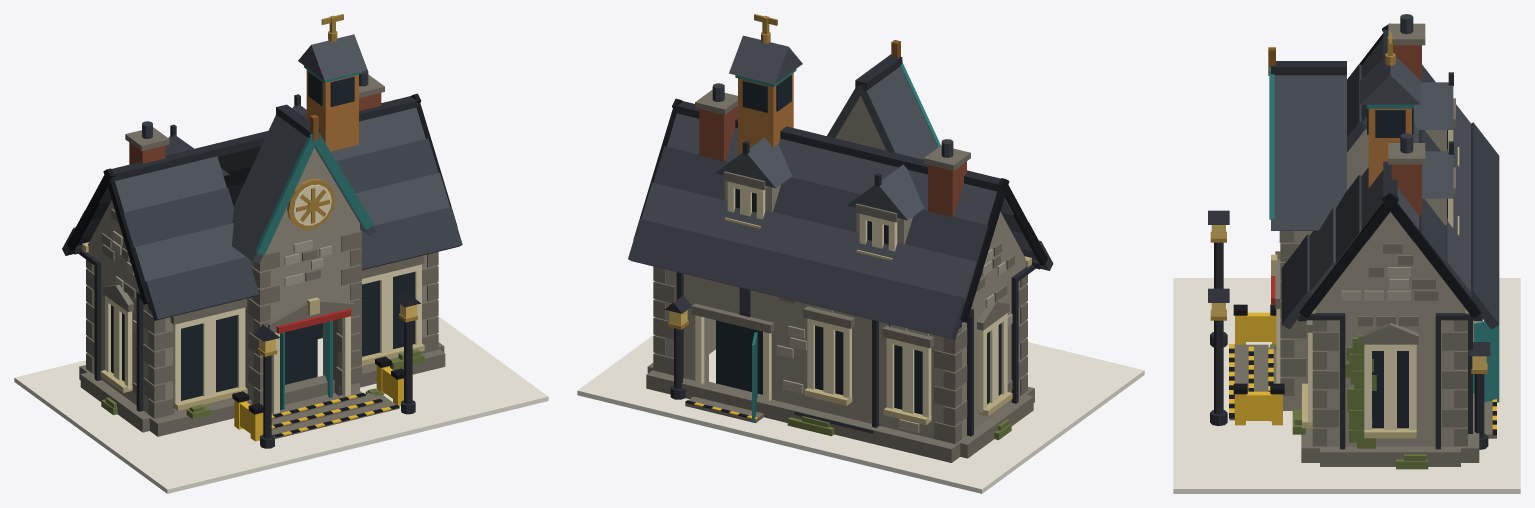
The model's file is Hall_atlas.fbx.
3 views of the same model, side by side, from view 1: azimuth 30°, elevation 25°; view 2: azimuth 150°, elevation 25°; view 3: azimuth 270°, elevation 25° (orthographic). The views are drawn at different scales.
Visible parts, largest first — view 1: Hall_Ground_Paving_01, Hall_PorchRoofB_Slate_01, Hall_RoofB_Soot_04, Hall_RoofB_Soot_14, Hall_RoofB_Soot_02, Hall_RoofB_Slate_03, Hall_PorchFront_Stone_03, Hall_RoofB_Slate_01, Hall_RoofB_Soot_12, Hall_PlinthS_Stonedark_01, Hall_RoofB_Slate_13, Hall_RidgeCap_Iron_01 (+41 smaller); view 2: Hall_Ground_Paving_01, Hall_RoofA_Soot_04, Hall_RoofA_Slate_03, Hall_RoofA_Soot_02, Hall_WallN_Stone_01, Hall_RoofA_Slate_01, Hall_PlinthN_Stonedark_01, Hall_PorchRoofB_Slate_01, Hall_RidgeCap_Iron_01, Hall_InteriorN_Dark_01, Hall_WallW_Stone_01, Hall_CupolaRoof_Slate_01 (+33 smaller); view 3: Hall_Ground_Paving_01, Hall_PorchRoofA_Slate_01, Hall_WallE_Stone_01, Hall_RoofA_Soot_04, Hall_GableE_Stone_01, Hall_RoofA_Slate_03, Hall_PlinthE_Stonedark_01, Hall_CupolaRoof_Slate_01, Hall_RoofB_Soot_14, Hall_Win06Glass_Dark_01, Hall_Dormer1Roof_Slate_01, Hall_BargeEN_Ink_01 (+47 smaller).
Part boxes in pixels (bbox=[...]): Hall_Ground_Paving_01: bbox=[14, 316, 548, 493]; Hall_PorchRoofB_Slate_01: bbox=[231, 114, 307, 263]; Hall_RoofB_Soot_04: bbox=[144, 257, 259, 320]; Hall_RoofB_Soot_14: bbox=[360, 207, 462, 270]; Hall_RoofB_Soot_02: bbox=[123, 187, 233, 249]; Hall_RoofB_Slate_03: bbox=[134, 223, 245, 285]; Hall_PorchFront_Stone_03: bbox=[277, 227, 343, 317]; Hall_RoofB_Slate_01: bbox=[115, 156, 226, 212]; Hall_RoofB_Soot_12: bbox=[336, 138, 438, 193]; Hall_PlinthS_Stonedark_01: bbox=[149, 349, 445, 436]; Hall_RoofB_Slate_13: bbox=[355, 172, 449, 225]; Hall_RidgeCap_Iron_01: bbox=[111, 96, 418, 180]; Hall_Ground_Paving_01: bbox=[577, 334, 1144, 493]; Hall_RoofA_Soot_04: bbox=[628, 219, 964, 339]; Hall_RoofA_Slate_03: bbox=[641, 182, 977, 302]; Hall_RoofA_Soot_02: bbox=[653, 146, 988, 261]; Hall_WallN_Stone_01: bbox=[765, 294, 954, 443]; Hall_RoofA_Slate_01: bbox=[667, 113, 996, 224]; Hall_PlinthN_Stonedark_01: bbox=[646, 370, 960, 462]; Hall_PorchRoofB_Slate_01: bbox=[857, 66, 937, 159]; Hall_RidgeCap_Iron_01: bbox=[674, 101, 1000, 191]; Hall_InteriorN_Dark_01: bbox=[716, 320, 762, 394]; Hall_WallW_Stone_01: bbox=[960, 262, 1020, 438]; Hall_CupolaRoof_Slate_01: bbox=[729, 35, 802, 84]; Hall_Ground_Paving_01: bbox=[1173, 278, 1520, 493]; Hall_PorchRoofA_Slate_01: bbox=[1271, 75, 1346, 230]; Hall_WallE_Stone_01: bbox=[1325, 304, 1455, 446]; Hall_RoofA_Soot_04: bbox=[1469, 122, 1499, 329]; Hall_GableE_Stone_01: bbox=[1319, 212, 1461, 303]; Hall_RoofA_Slate_03: bbox=[1444, 104, 1472, 296]; Hall_PlinthE_Stonedark_01: bbox=[1320, 446, 1460, 466]; Hall_CupolaRoof_Slate_01: bbox=[1360, 57, 1420, 104]; Hall_RoofB_Soot_14: bbox=[1281, 234, 1312, 329]; Hall_Win06Glass_Dark_01: bbox=[1372, 351, 1408, 428]; Hall_Dormer1Roof_Slate_01: bbox=[1413, 82, 1453, 129]; Hall_BargeEN_Ink_01: bbox=[1382, 193, 1481, 318].
Size of the model in its own units: 46 by 39.6 by 32.
Materials: 1 (1 with a texture image).
